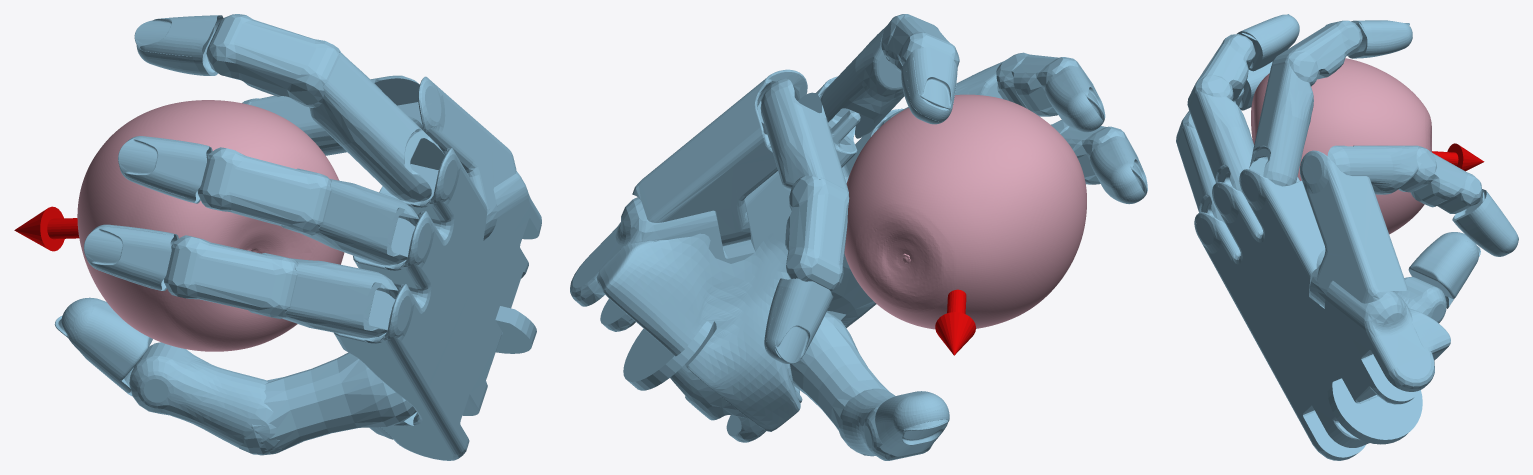
The picture shows the model from 3 angles, left to right: view 1: azimuth 30°, elevation 25°; view 2: azimuth 150°, elevation 25°; view 3: azimuth 270°, elevation 25°; orthographic projection. The views are drawn at different scales.
Parts seen in each view (by area): view 1: world, apple.stl; view 2: world, apple.stl; view 3: world, apple.stl.
Boxes of the visible parts, <box> form: world: <box>14,14,541,460</box>; apple.stl: <box>77,100,344,351</box>; world: <box>570,14,1147,460</box>; apple.stl: <box>844,94,1086,329</box>; world: <box>1176,14,1518,460</box>; apple.stl: <box>1251,58,1431,234</box>.
Size of the model in its own units: 0.1833 by 0.1593 by 0.1353.
